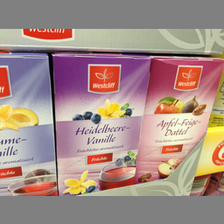tea: (52, 53, 150, 196), (138, 57, 224, 183), (1, 52, 58, 194)
